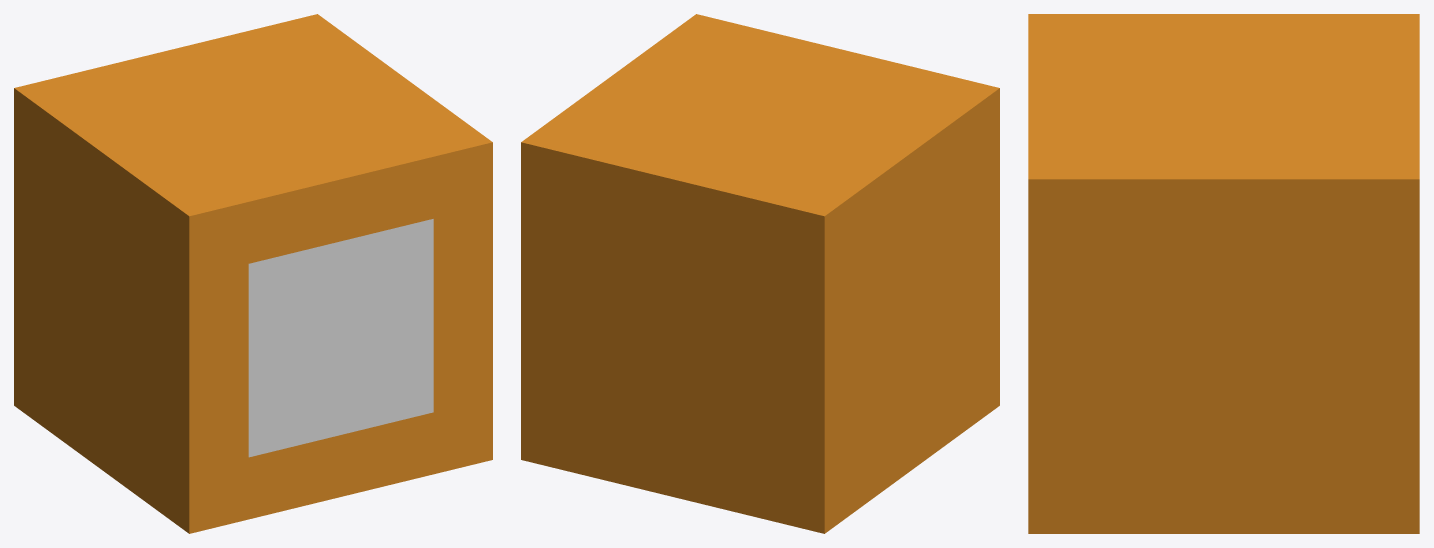
The model's file is Camera.fbx.
The picture shows the model from 3 angles, left to right: view 1: azimuth 30°, elevation 25°; view 2: azimuth 150°, elevation 25°; view 3: azimuth 270°, elevation 25°; orthographic projection. The views are drawn at different scales.
Visible parts, largest first — view 1: Cube; view 2: Cube; view 3: Cube.
Part boxes in pixels (x1=…): Cube: x1=14, y1=14, x2=492, y2=533; Cube: x1=521, y1=14, x2=999, y2=533; Cube: x1=1028, y1=14, x2=1419, y2=533.
Bounding box in the file's own units: 200 × 200 × 200.
